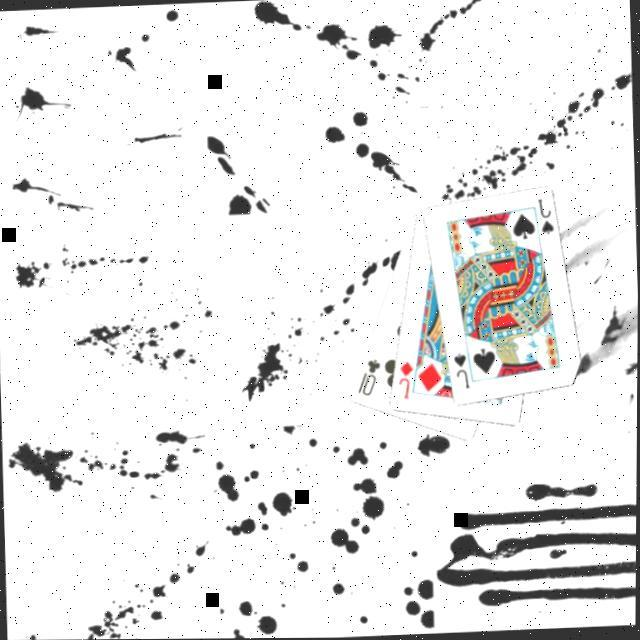10C: (351, 355, 382, 398)
JD: (393, 357, 415, 402)
JS: (448, 349, 471, 391), (533, 194, 554, 237)
